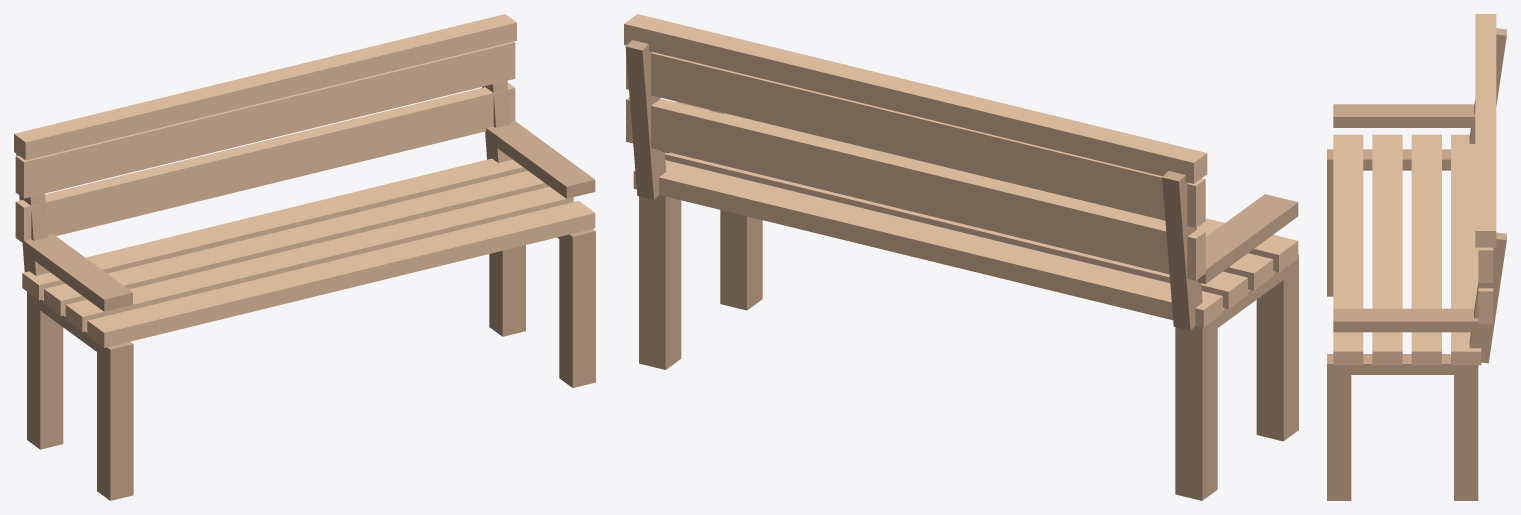
File: gardenBench.glb
The picture shows the model from 3 angles, left to right: view 1: azimuth 30°, elevation 25°; view 2: azimuth 150°, elevation 25°; view 3: azimuth 270°, elevation 25°; orthographic projection. The views are drawn at different scales.
Visible parts, largest first — view 1: gardenBench; view 2: gardenBench; view 3: gardenBench.
Boxes of the visible parts, x1=… form: gardenBench: x1=14, y1=14, x2=595, y2=500; gardenBench: x1=624, y1=14, x2=1298, y2=500; gardenBench: x1=1327, y1=14, x2=1506, y2=500.
Size of the model in its own units: 0.85 by 0.495 by 0.2973.
